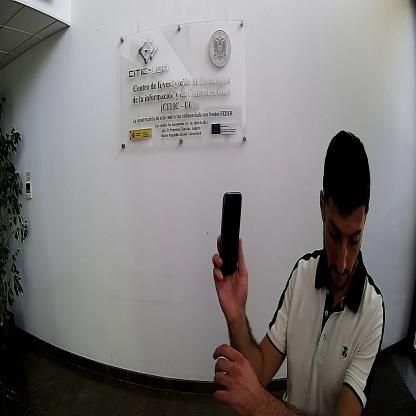smartphone: (218, 191, 242, 277)
